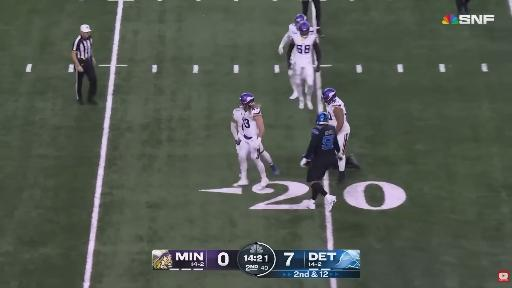Helmet: (323, 88, 336, 104), (298, 21, 310, 37), (240, 93, 254, 106), (316, 112, 328, 124), (295, 14, 307, 25)
Jersey: (304, 125, 339, 161), (292, 33, 316, 66), (327, 98, 348, 130), (242, 108, 261, 138), (233, 108, 244, 138), (288, 24, 298, 40)
Player: (301, 112, 339, 211), (323, 88, 359, 183), (234, 93, 268, 188), (287, 22, 321, 109), (279, 14, 306, 54), (231, 107, 244, 153), (312, 0, 321, 26), (301, 0, 309, 16)
